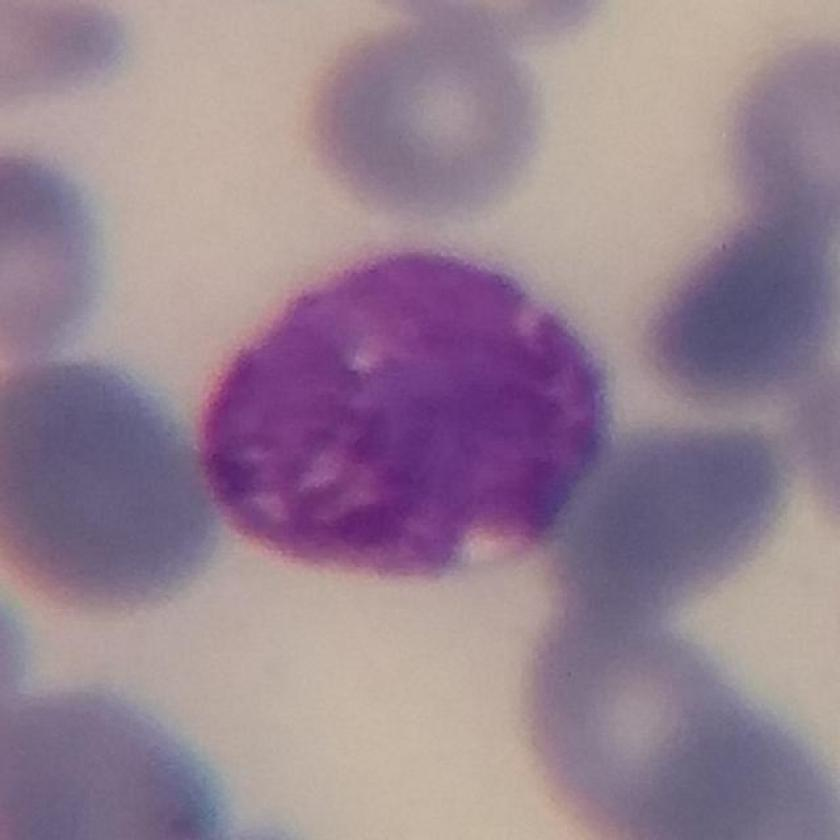basophil: (194, 231, 619, 576)
